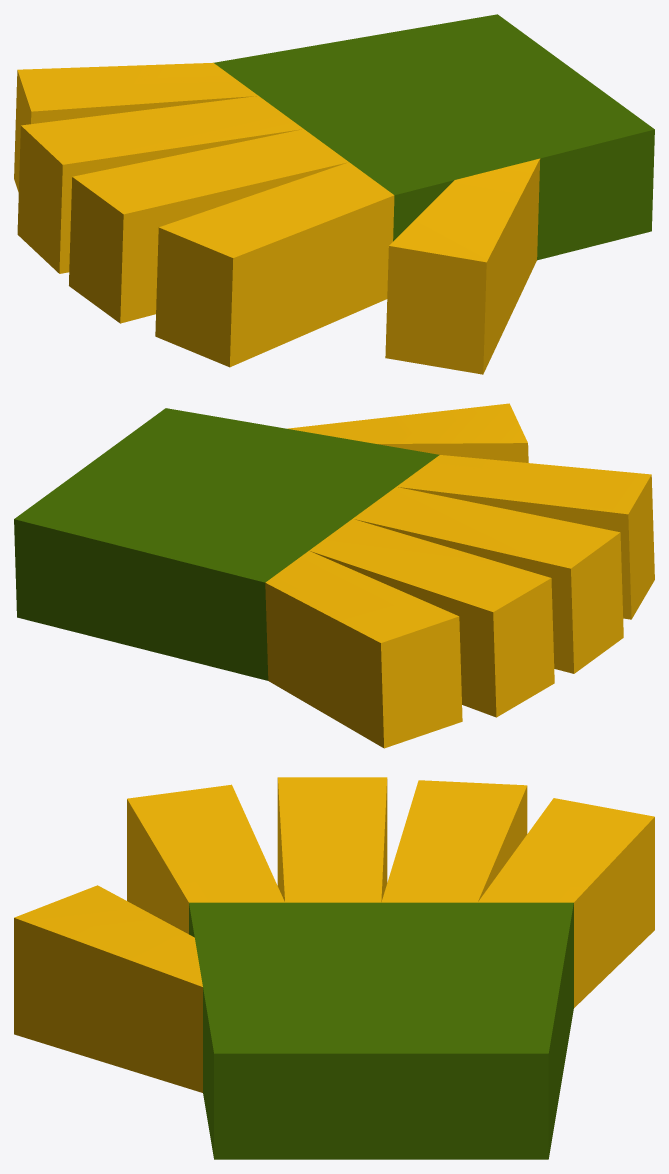
Rendered from BossHandR.fbx.
3 views of the same model, one above another, from view 1: azimuth 30°, elevation 25°; view 2: azimuth 150°, elevation 25°; view 3: azimuth 270°, elevation 25° (orthographic). The views are drawn at different scales.
Parts seen in each view (by area): view 1: polySurface117; view 2: polySurface117; view 3: polySurface117.
Boxes of the visible parts, bbox=[...] form: polySurface117: bbox=[14, 14, 654, 374]; polySurface117: bbox=[14, 403, 654, 748]; polySurface117: bbox=[14, 777, 654, 1159].
Size of the model in its own units: 0.0169 by 0.00407 by 0.0175.
Materials: 3 (3 with a texture image).
